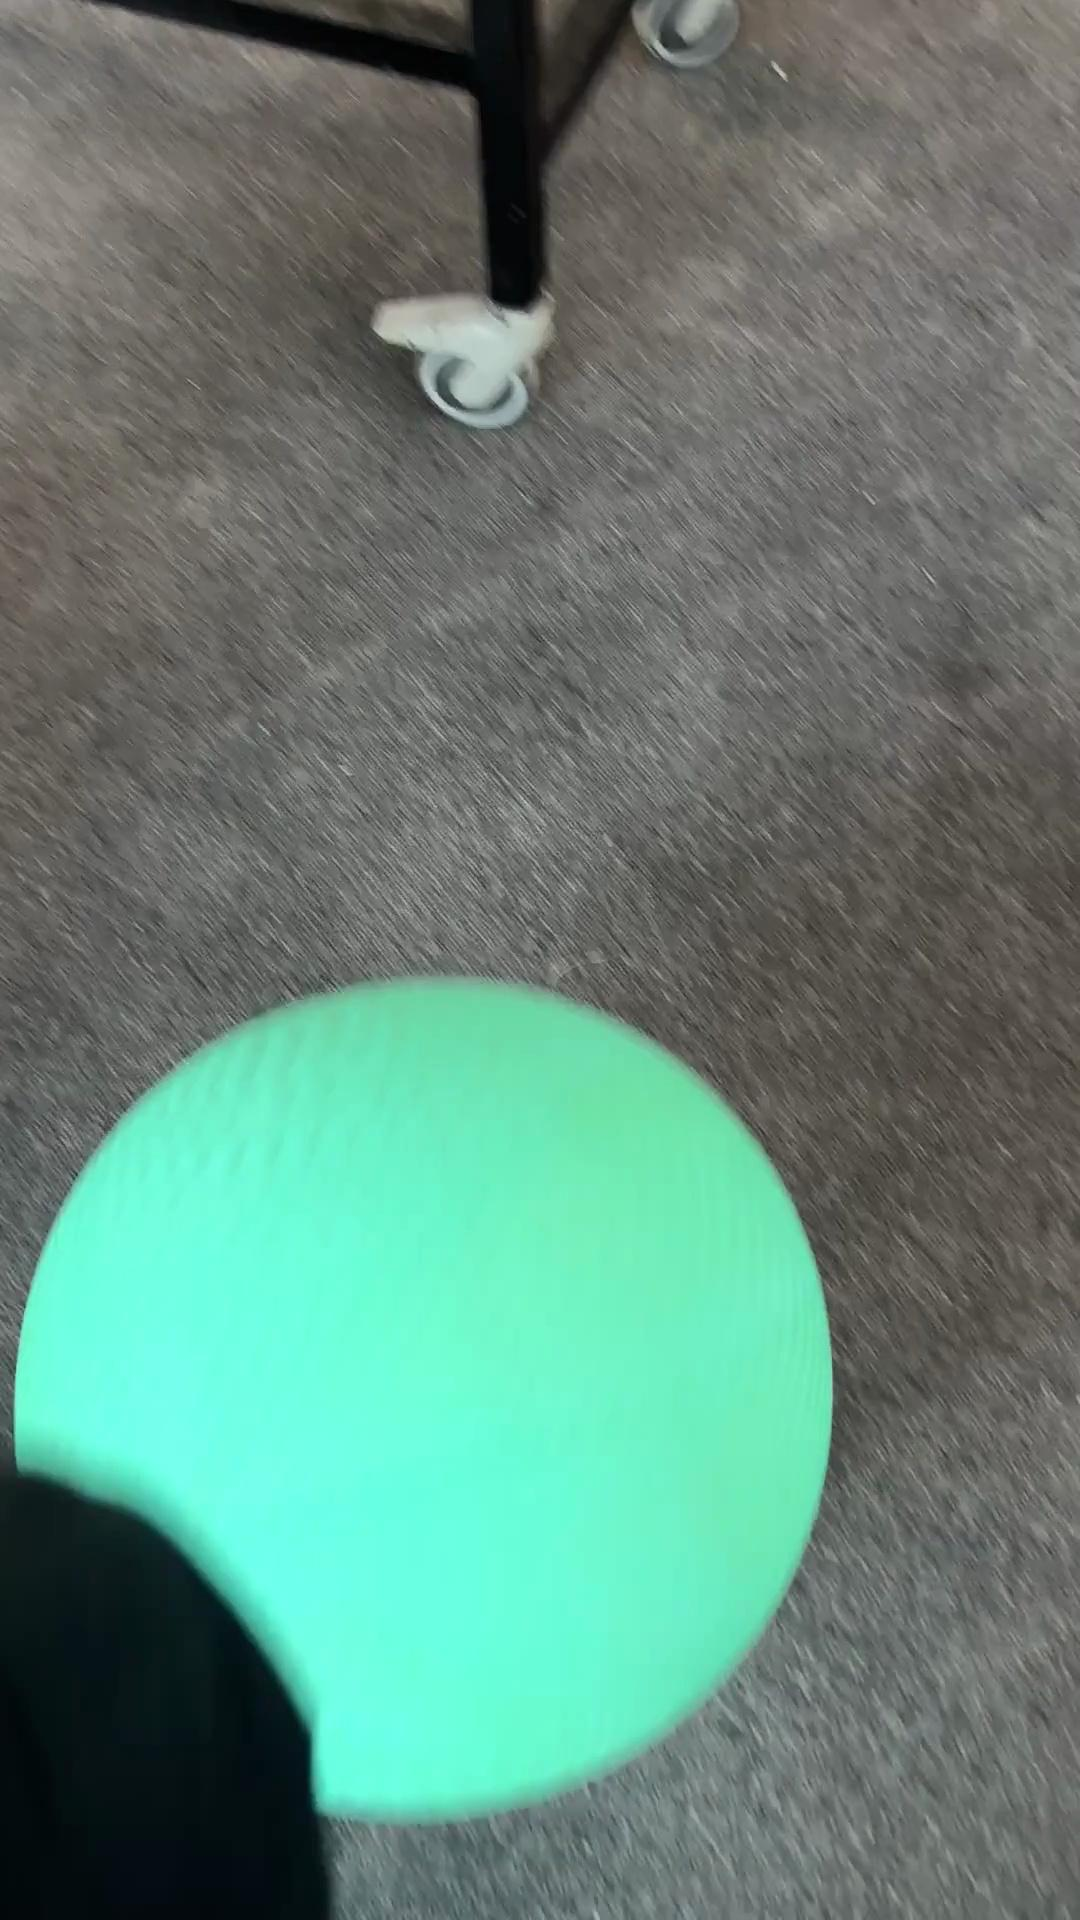ALGAE: (11, 971, 836, 1824)
